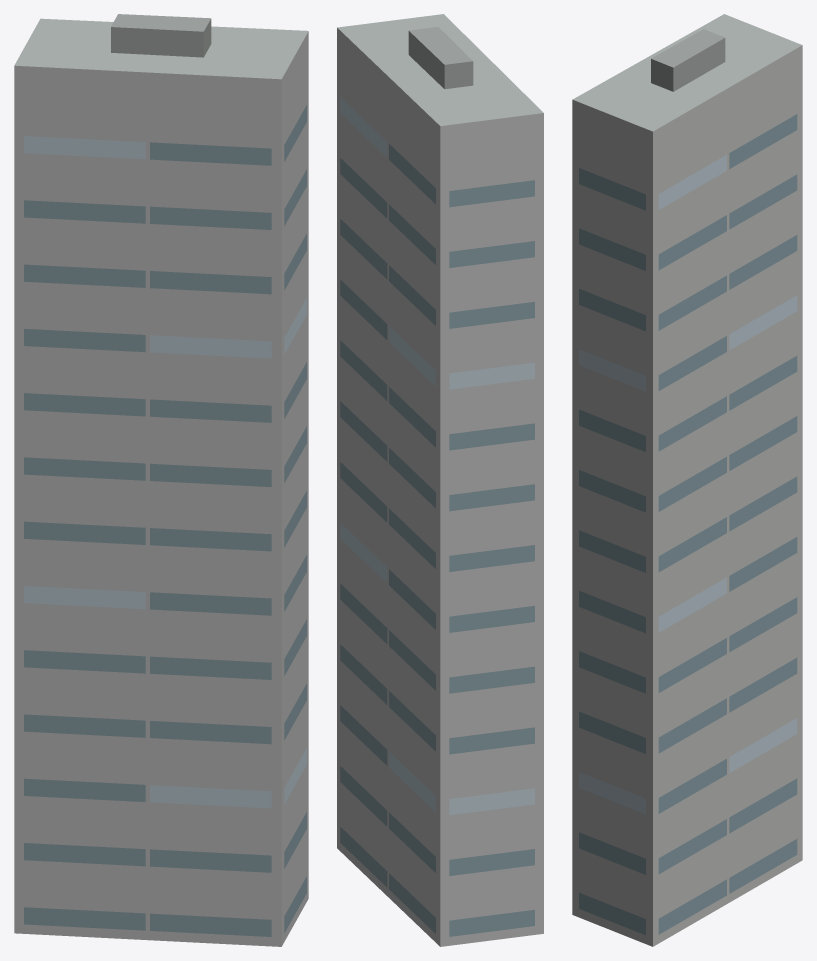
Rendered from fallback-jamsil-ricenz-221.glb.
3 views of the same model, side by side, from view 1: azimuth 30°, elevation 25°; view 2: azimuth 150°, elevation 25°; view 3: azimuth 270°, elevation 25° (orthographic). The views are drawn at different scales.
Parts seen in each view (by area): view 1: fallback-jamsil-ricenz-221; view 2: fallback-jamsil-ricenz-221; view 3: fallback-jamsil-ricenz-221.
Part boxes in pixels (bbox=[...]): fallback-jamsil-ricenz-221: bbox=[14, 14, 308, 946]; fallback-jamsil-ricenz-221: bbox=[337, 14, 543, 946]; fallback-jamsil-ricenz-221: bbox=[572, 14, 802, 946].
Size of the model in its own units: 24.94 by 83 by 20.62.
